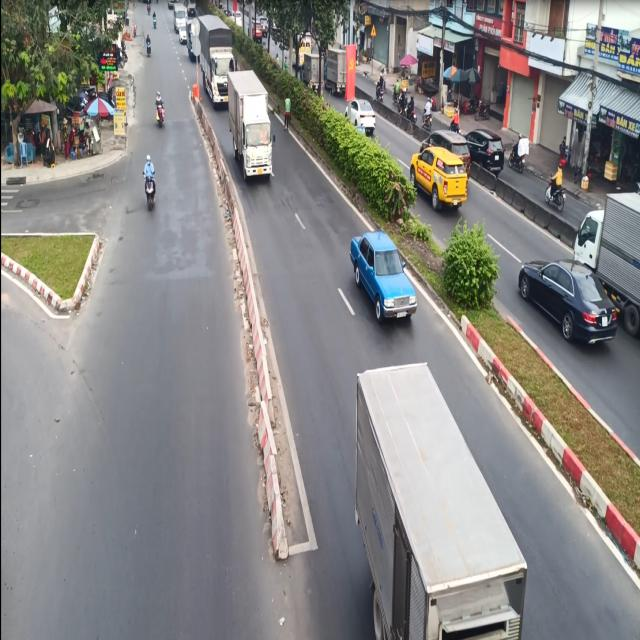car: (346, 224, 420, 333)
motor: (139, 151, 163, 218), (150, 89, 167, 136)
truck: (342, 357, 536, 640), (228, 70, 282, 191), (196, 14, 235, 106)
